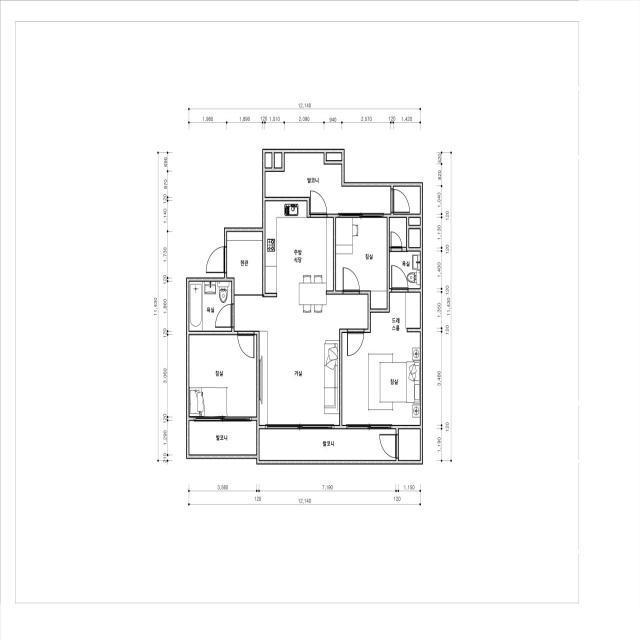background: (0, 1, 640, 640)
space_balconi: (265, 153, 390, 214), (260, 429, 396, 460), (189, 421, 256, 455)
space_bedroom: (342, 332, 420, 425), (189, 335, 256, 417), (336, 218, 387, 309)
space_dressroom: (371, 292, 420, 332)
space_front: (227, 232, 262, 295)
space_kitchen: (265, 201, 333, 293)
space_living_room: (234, 293, 368, 425)
space_other: (393, 187, 420, 214), (399, 429, 420, 460), (409, 229, 420, 247), (265, 153, 272, 168), (327, 153, 341, 160), (275, 153, 281, 168), (409, 218, 420, 225)
space_toilet: (189, 282, 231, 331), (390, 252, 420, 288), (389, 218, 406, 247)
